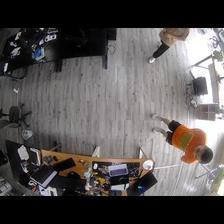normal: (153, 113, 214, 164), (148, 27, 191, 62)
